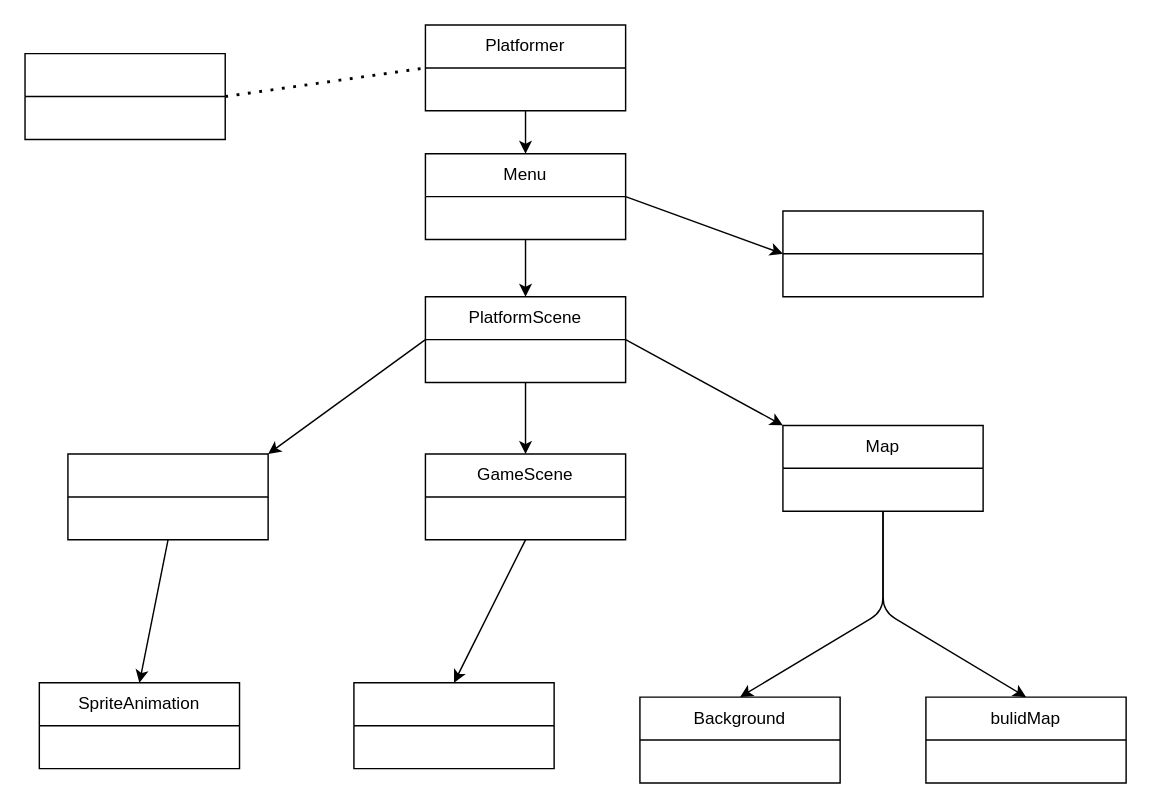
Some shapes in this 1151 by 808 pixel diagram are drawn without their labels. The shapes that lost their labels are listed below. From the top down, each one's centre as x and y in pixels, then its label:
At point (124, 95): "FilePath".
At point (882, 253): "Sound".
At point (167, 496): "Player".
At point (453, 725): "gameObject".
